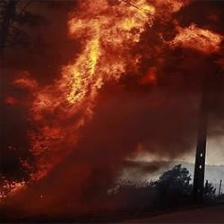fire: (45, 3, 177, 111)
